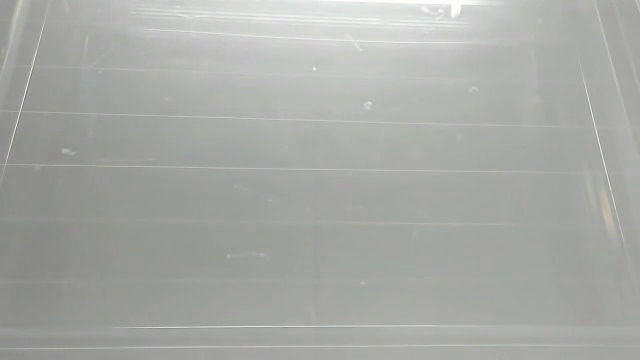alpha: (54, 143, 85, 162), (447, 1, 464, 22)
